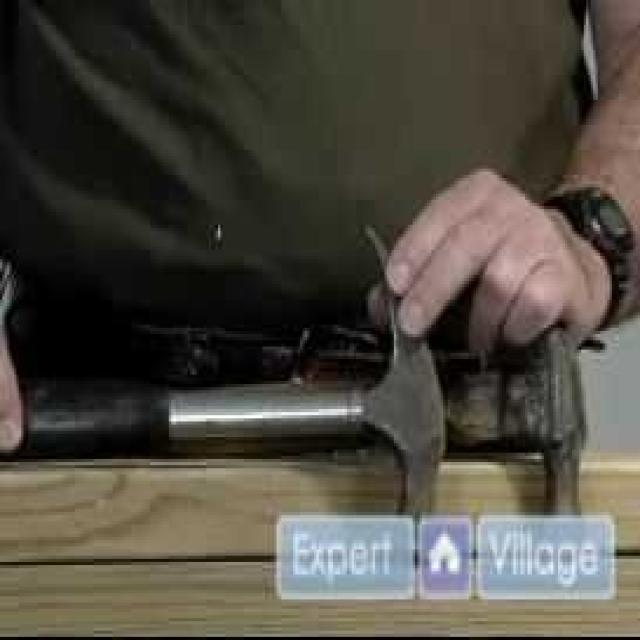hammer: (0, 222, 444, 526)
